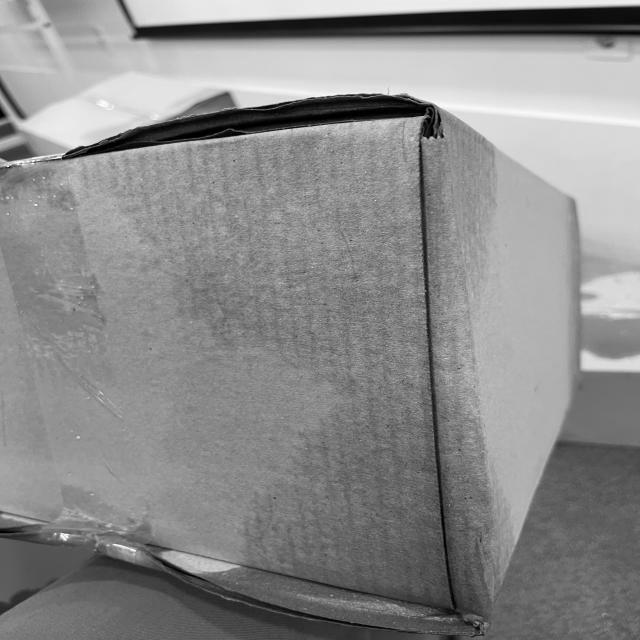wet: (156, 90, 512, 626)
